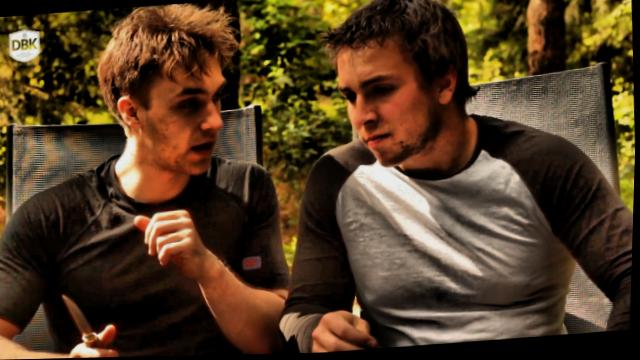knife: (54, 281, 125, 359)
